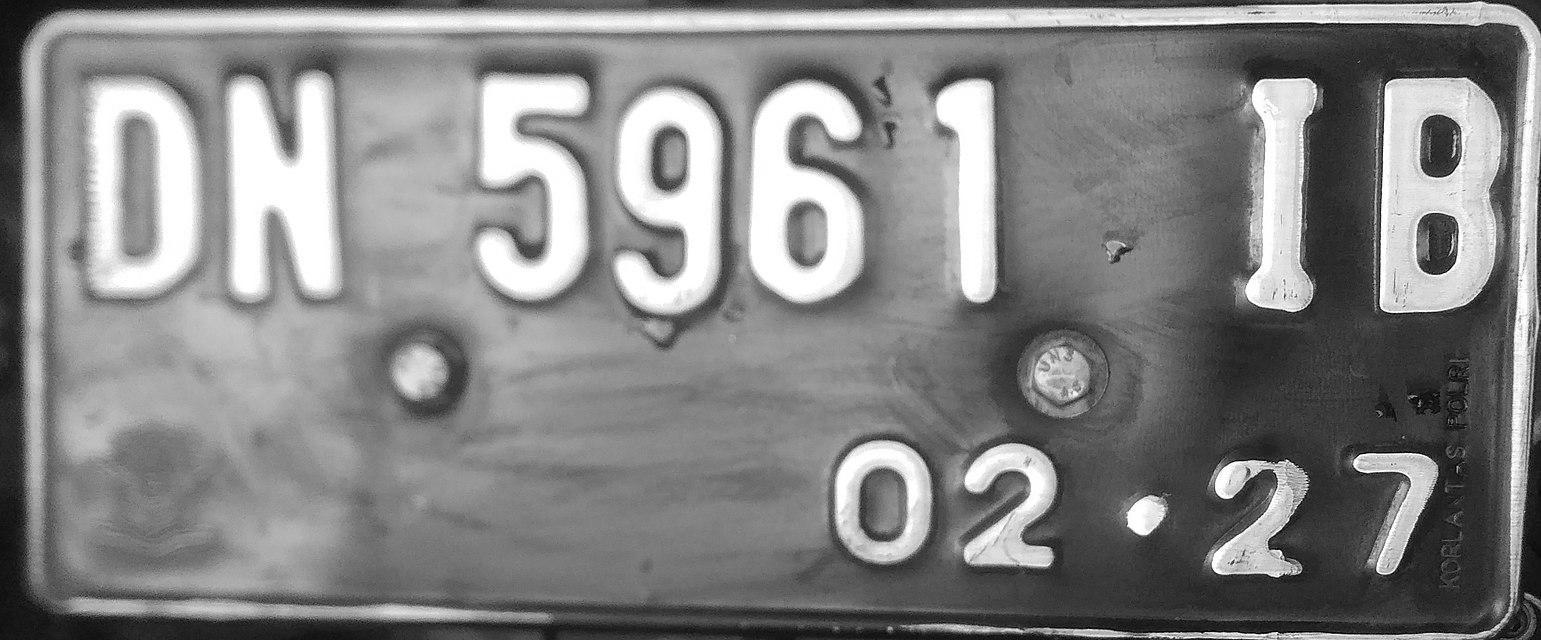1: (916, 60, 1026, 318)
5: (458, 54, 604, 304)
6: (744, 66, 890, 322)
9: (602, 64, 742, 322)
B: (1358, 62, 1504, 324)
D: (64, 60, 209, 313)
I: (1230, 67, 1333, 320)
N: (208, 62, 368, 310)
